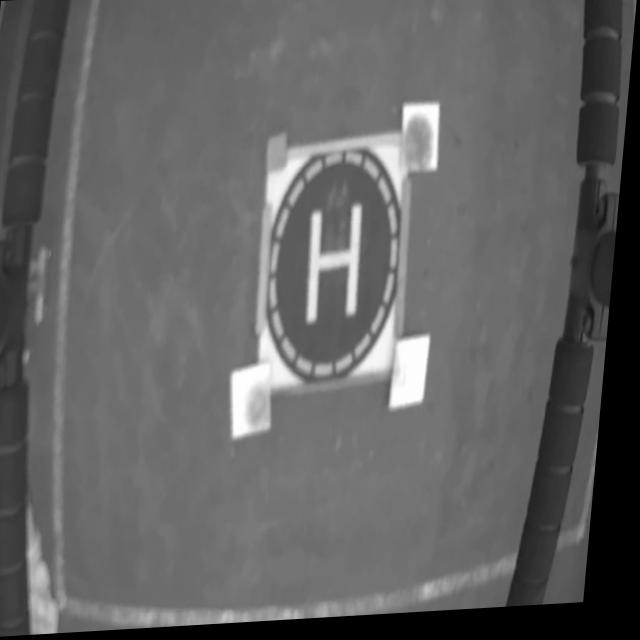Helipad: (311, 205, 366, 326)
